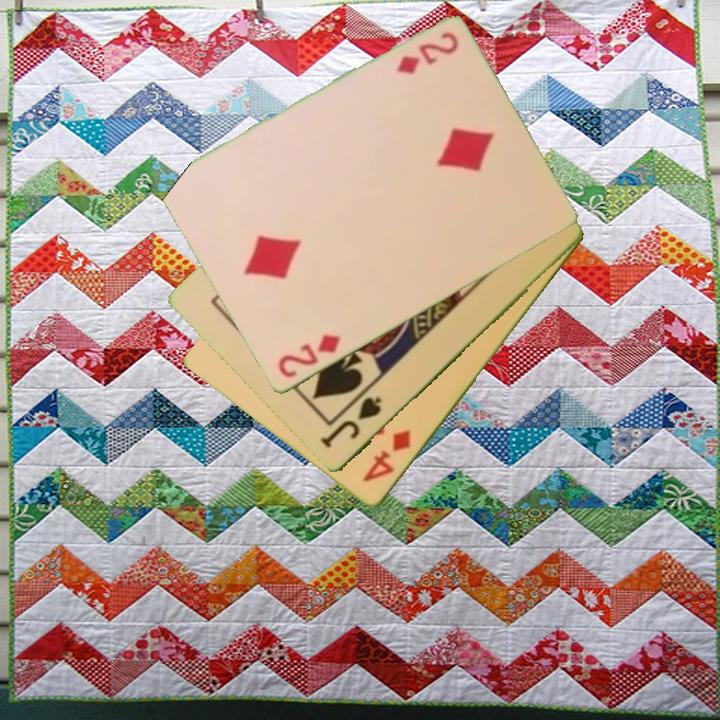2d: (274, 331, 343, 382), (393, 28, 462, 78)
4d: (359, 427, 414, 486)
Js: (318, 393, 384, 452)
